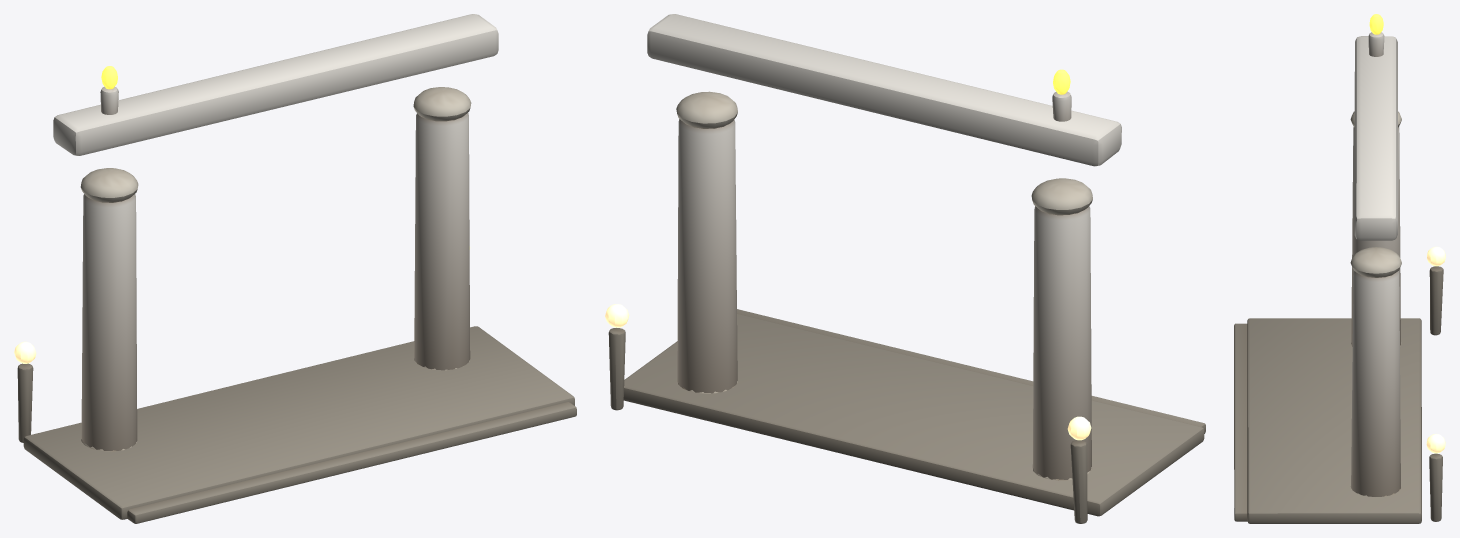
The picture shows the model from 3 angles, left to right: view 1: azimuth 30°, elevation 25°; view 2: azimuth 150°, elevation 25°; view 3: azimuth 270°, elevation 25°; orthographic projection. The views are drawn at different scales.
Parts seen in each view (by area): view 1: gate_feef7dd1; view 2: gate_feef7dd1; view 3: gate_feef7dd1.
Boxes of the visible parts, bbox=[...] form: gate_feef7dd1: bbox=[14, 14, 576, 523]; gate_feef7dd1: bbox=[605, 14, 1205, 523]; gate_feef7dd1: bbox=[1234, 14, 1445, 523].
Size of the model in its own units: 5.59 by 4.54 by 2.55.
